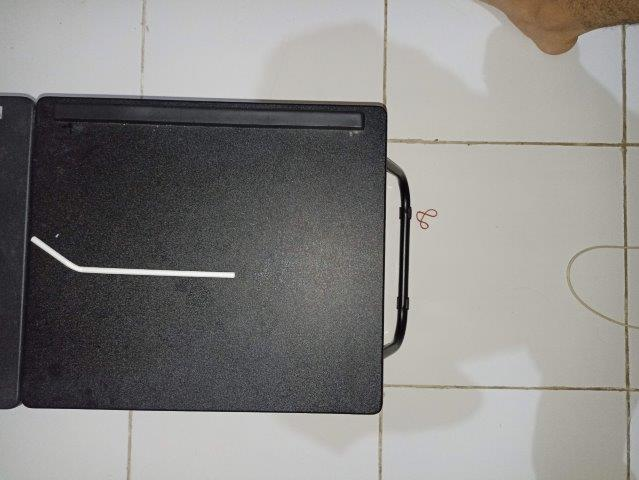karet: (415, 208, 438, 230)
sedotan: (31, 236, 235, 278)
